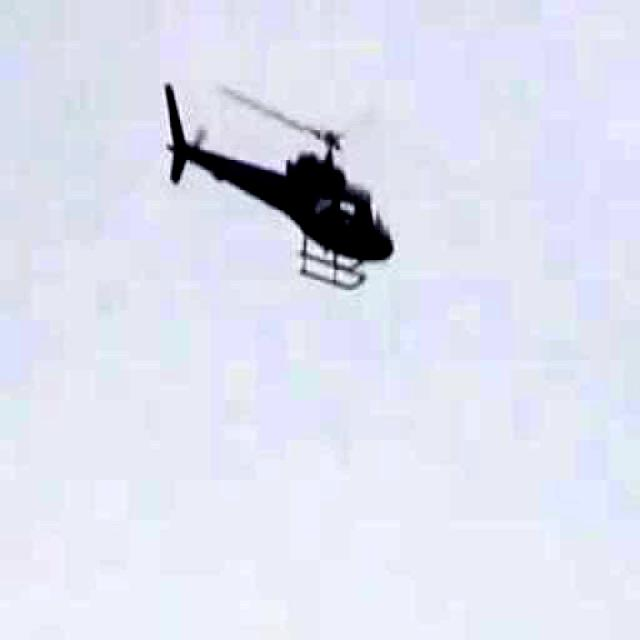drone: (161, 45, 398, 348)
